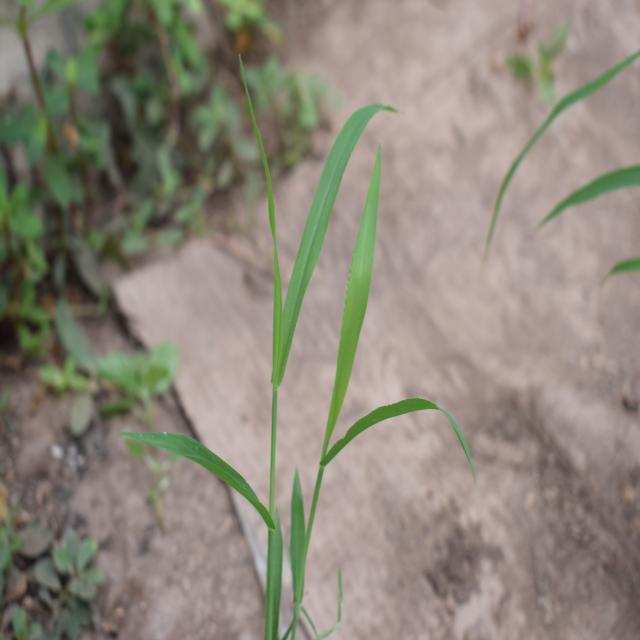crabgrass: (205, 65, 439, 564)
